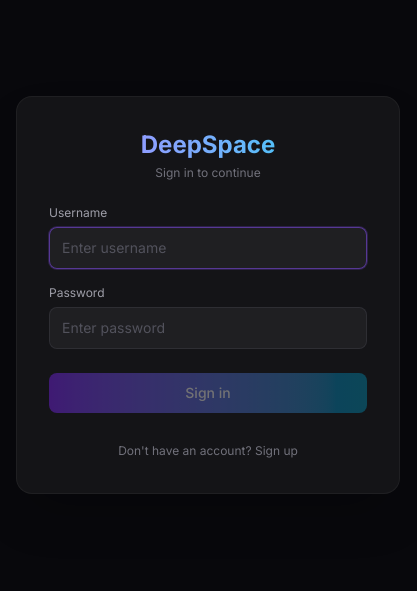
it: LoginScreen › should switch to register mode
The width and height of the screenshot is (417, 591).
Step 1. Click the button "Don't have an account? Sign up" → coordinates (208, 451), box [118,443,298,459]
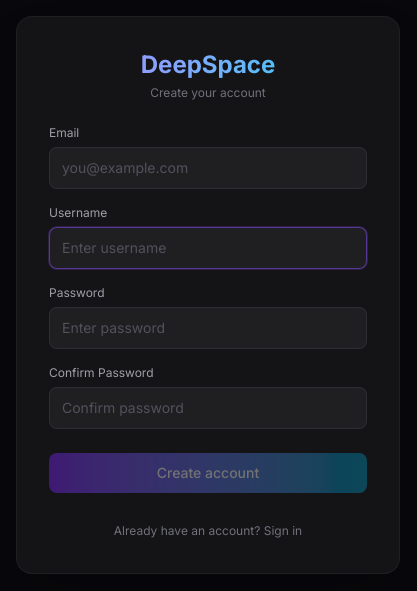
Expected: the text "Create your account" is shown, [150,85,266,100]
Expected: the field with placeholder "you@example.com" is shown, [49,147,367,189]
Expected: the password field with placeholder "Confirm password" is shown, [49,387,367,429]
